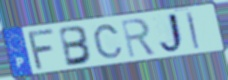B: (58, 25, 95, 68)
C: (92, 23, 125, 60)
F: (27, 27, 57, 72)
I: (184, 10, 201, 51)
J: (158, 11, 187, 55)
R: (119, 17, 158, 60)
